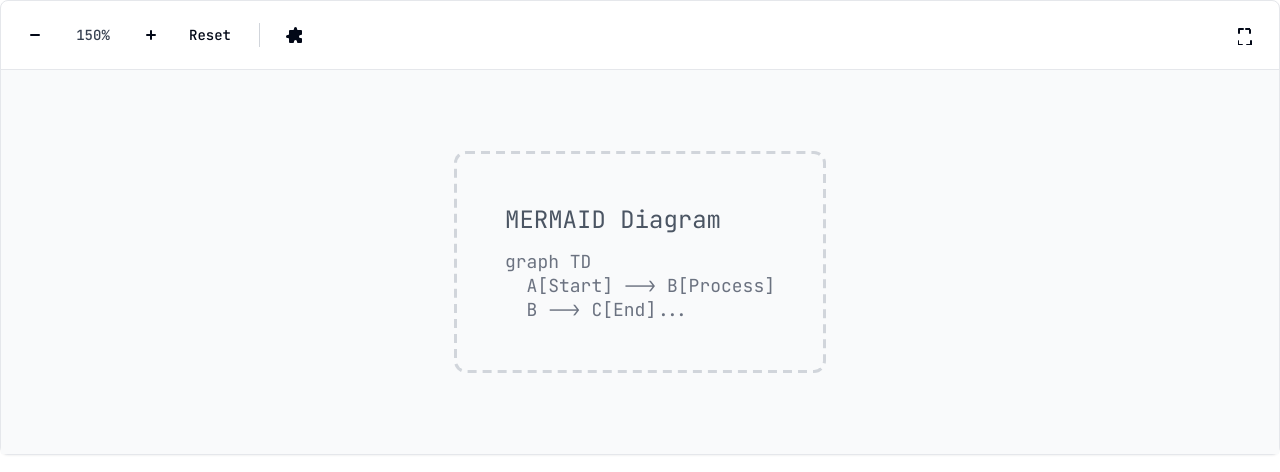
DiagramViewer › Zoom Controls › resets zoom to 100% when reset is clicked
Expected: the element named "diagram controls" shows "150%", [1,1,1279,70]
Click the button with aria-label "reset zoom" at (210,35), box [177,19,243,51]
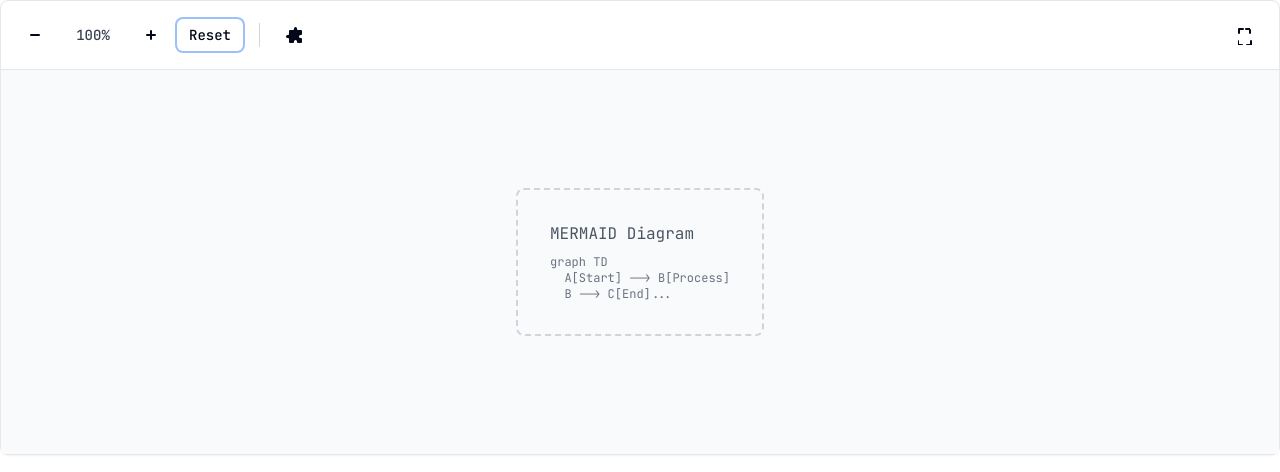
Now the element named "diagram controls" shows "100%", box [1,1,1279,70]
